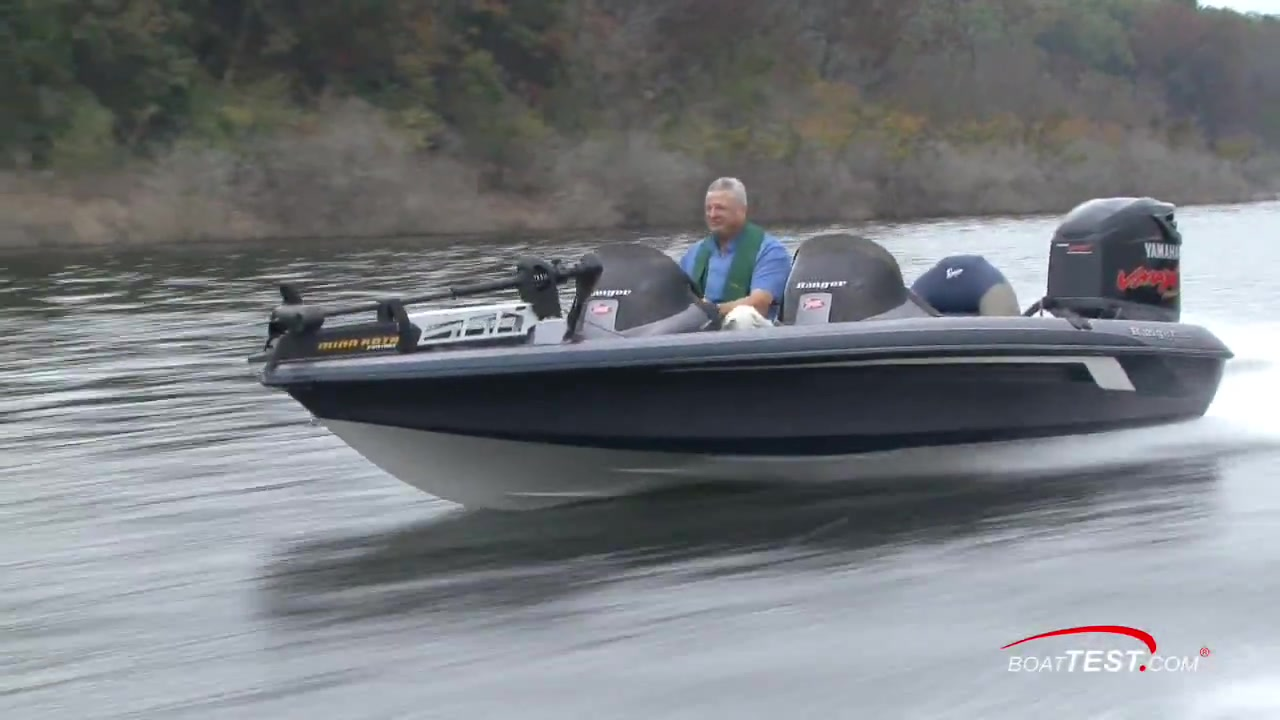boat: (249, 199, 1230, 516)
